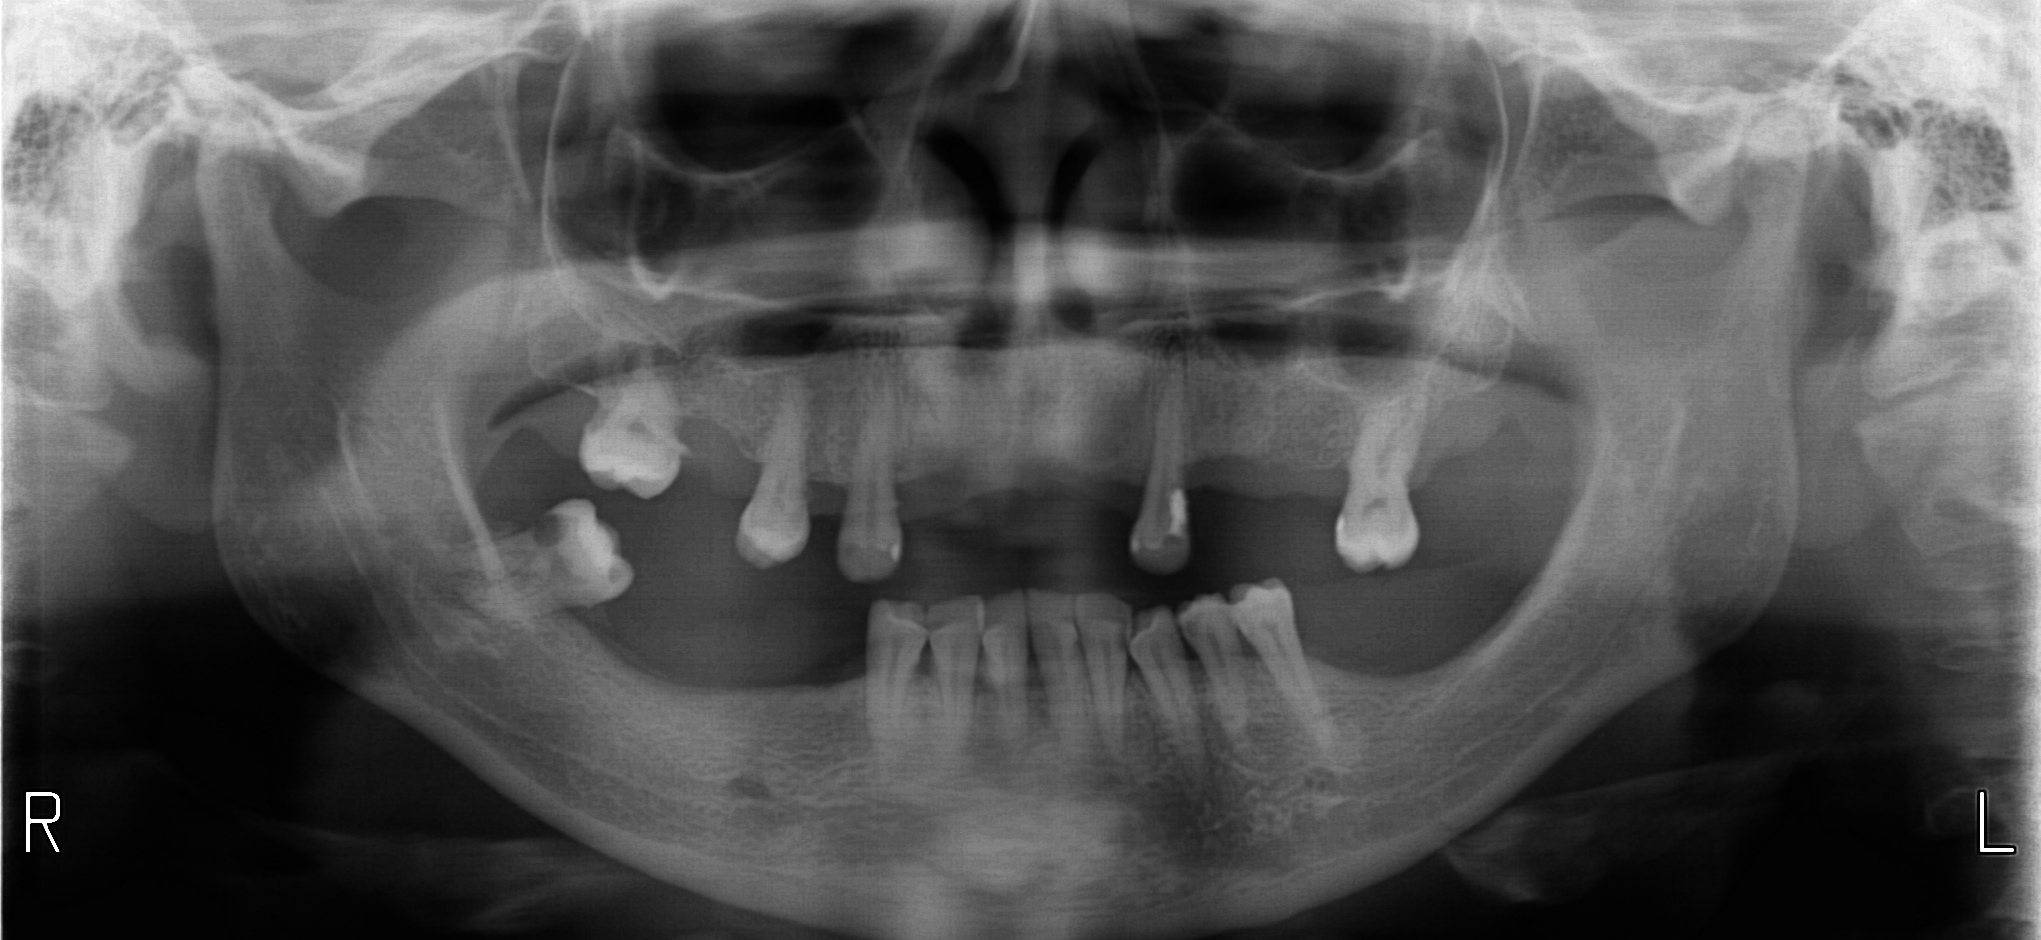cavity: (536, 514, 565, 540)
